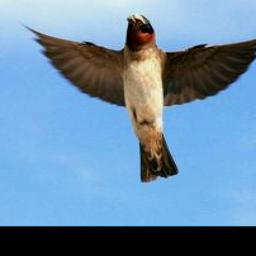Swallow: (18, 12, 256, 183)
